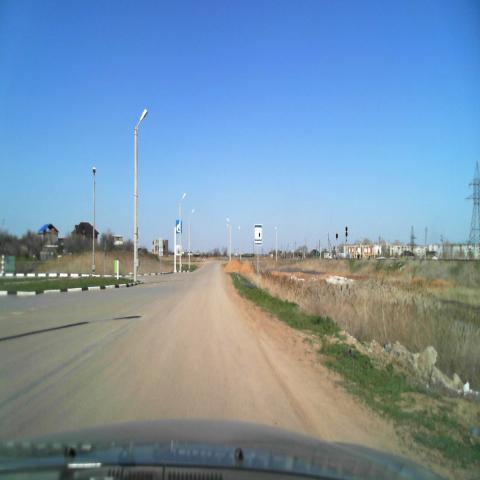7_3: (255, 223, 262, 247)
